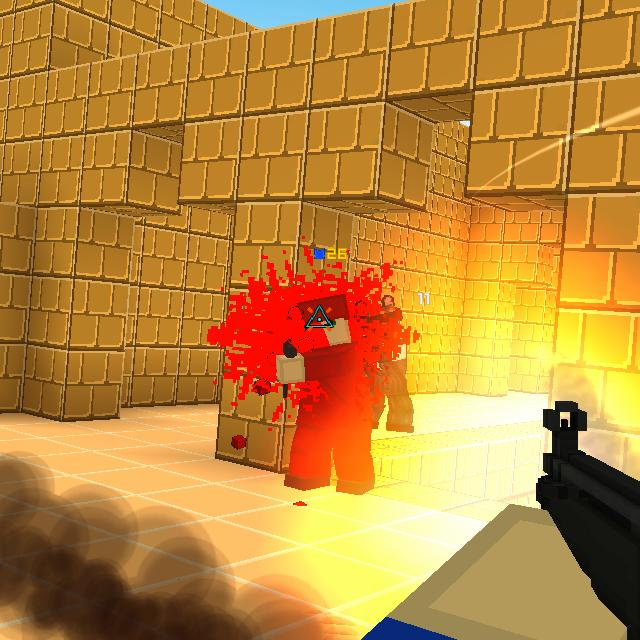enemy: (274, 292, 376, 497), (355, 293, 417, 433)
